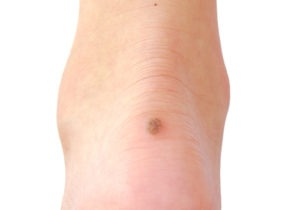Warts: (141, 109, 169, 142)
